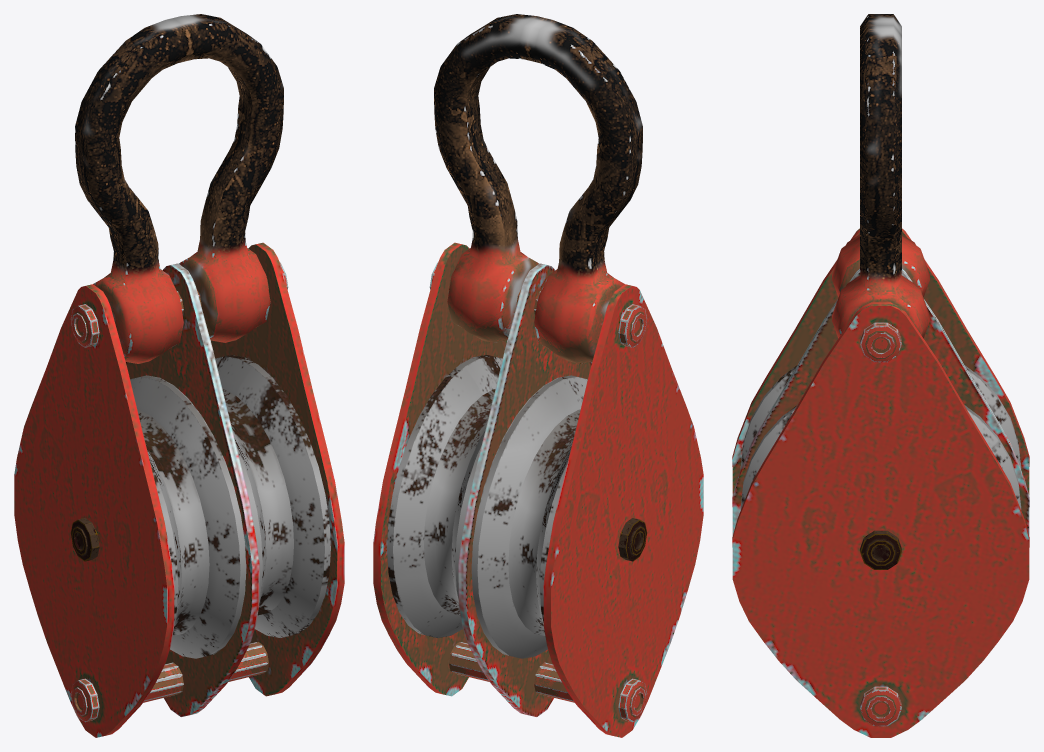
The model's file is Kattrol.fbx.
The picture shows the model from 3 angles, left to right: view 1: azimuth 30°, elevation 25°; view 2: azimuth 150°, elevation 25°; view 3: azimuth 270°, elevation 25°; orthographic projection. The views are drawn at different scales.
Parts seen in each view (by area): view 1: Plane.001, Cylinder, Cylinder.005, Plane, Cylinder.004, Cylinder.002, Cylinder.003; view 2: Plane.001, Cylinder, Cylinder.005, Plane, Cylinder.004, Cylinder.002, Cylinder.003; view 3: Plane.001, Cylinder.005, Plane, Cylinder, Cylinder.002, Cylinder.004, Cylinder.003.
Part boxes in pixels (<box>): Plane.001: <box>14,242,344,737</box>; Cylinder: <box>130,354,330,658</box>; Cylinder.005: <box>75,14,283,363</box>; Plane: <box>126,263,259,716</box>; Cylinder.004: <box>70,642,268,722</box>; Cylinder.002: <box>70,262,288,347</box>; Cylinder.003: <box>70,518,99,561</box>; Plane.001: <box>373,242,703,737</box>; Cylinder: <box>387,354,587,658</box>; Cylinder.005: <box>434,14,642,363</box>; Plane: <box>458,263,591,716</box>; Cylinder.004: <box>449,642,647,722</box>; Cylinder.002: <box>429,262,647,347</box>; Cylinder.003: <box>618,518,647,561</box>; Plane.001: <box>732,228,1029,737</box>; Cylinder.005: <box>832,14,929,338</box>; Plane: <box>732,269,1029,535</box>; Cylinder: <box>740,365,1021,509</box>; Cylinder.002: <box>860,322,901,362</box>; Cylinder.004: <box>860,686,901,726</box>; Cylinder.003: <box>860,530,901,569</box>.
Bounding box in the file's own units: 209 × 686 × 276.
Materials: 1 (1 with a texture image).
